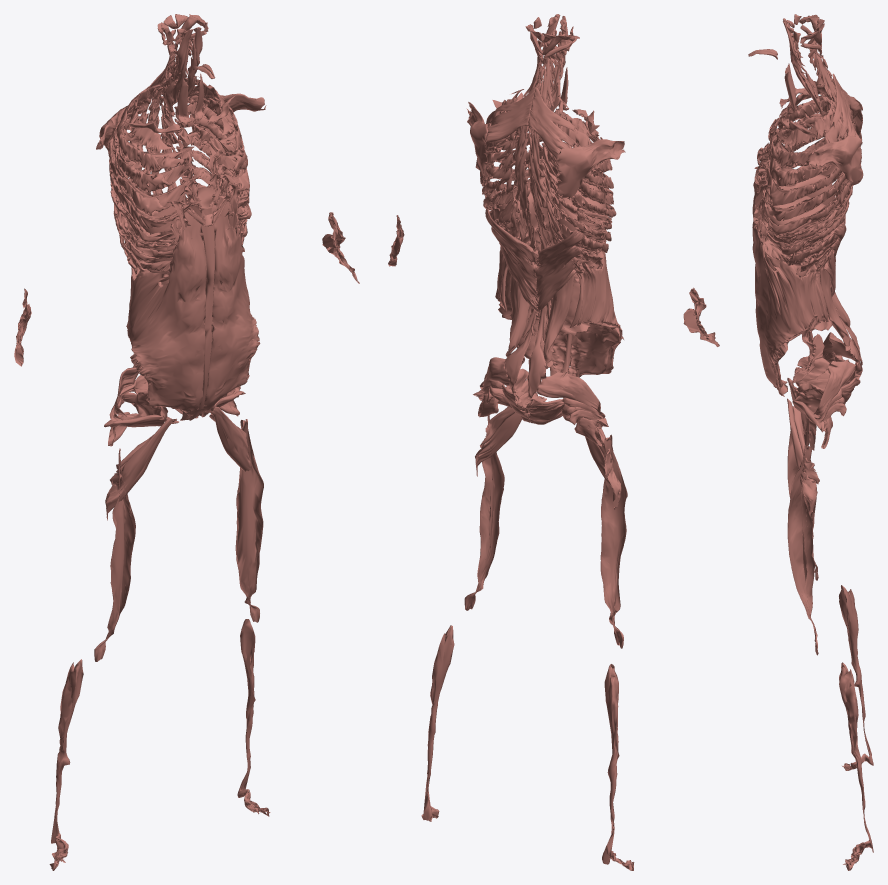
The model's file is deep-lite.glb.
The picture shows the model from 3 angles, left to right: view 1: azimuth 30°, elevation 25°; view 2: azimuth 150°, elevation 25°; view 3: azimuth 270°, elevation 25°; orthographic projection. The views are drawn at different scales.
Parts seen in each view (by area): view 1: internal_oblique_r, internal_oblique_l, External_intercostal_muscles_r, vastus_intermedius_l, Internal_intercostal_muscles_r, vastus_intermedius_r, External_intercostal_muscles_l, Tibialis_posterior_muscle_r, Innermost_intercostal_muscles_l, Tibialis_posterior_muscle_l, Linea_alba, adductor_brevis_r (+6 smaller); view 2: External_intercostal_muscles_r, Transversus_abdominis_muscle_r, vastus_intermedius_r, vastus_intermedius_l, internal_oblique_r, Serratus_posterior_inferior_muscle_r, Subscapularis_muscle_r, Serratus_posterior_inferior_muscle_l, Tibialis_posterior_muscle_r, Tibialis_posterior_muscle_l, Serratus_posterior_superior_muscle_r, Diaphragm (+17 smaller); view 3: External_intercostal_muscles_l, internal_oblique_l, vastus_intermedius_l, Internal_intercostal_muscles_l, Tibialis_posterior_muscle_l, Subscapularis_muscle_l, Tibialis_posterior_muscle_r, Diaphragm, Innermost_intercostal_muscles_l, Transversus_abdominis_muscle_l, Innermost_intercostal_muscles_r, adductor_brevis_l (+18 smaller).
Boxes of the visible parts, <box> form: internal_oblique_r: <box>126,197,206,415</box>; internal_oblique_l: <box>200,179,260,413</box>; External_intercostal_muscles_r: <box>108,90,189,274</box>; vastus_intermedius_l: <box>235,419,263,622</box>; Internal_intercostal_muscles_r: <box>112,122,201,271</box>; vastus_intermedius_r: <box>94,448,135,661</box>; External_intercostal_muscles_l: <box>177,79,251,244</box>; Tibialis_posterior_muscle_r: <box>49,659,83,870</box>; Innermost_intercostal_muscles_l: <box>191,98,247,224</box>; Tibialis_posterior_muscle_l: <box>237,619,270,816</box>; Linea_alba: <box>189,206,214,420</box>; adductor_brevis_r: <box>105,418,172,520</box>; External_intercostal_muscles_r: <box>544,108,616,271</box>; Transversus_abdominis_muscle_r: <box>560,172,620,377</box>; vastus_intermedius_r: <box>600,434,627,648</box>; vastus_intermedius_l: <box>464,415,504,610</box>; internal_oblique_r: <box>569,171,623,377</box>; Serratus_posterior_inferior_muscle_r: <box>534,230,584,312</box>; Subscapularis_muscle_r: <box>556,139,625,198</box>; Serratus_posterior_inferior_muscle_l: <box>485,208,538,313</box>; Tibialis_posterior_muscle_r: <box>602,664,634,870</box>; Tibialis_posterior_muscle_l: <box>421,625,454,821</box>; Serratus_posterior_superior_muscle_r: <box>528,87,578,158</box>; Diaphragm: <box>496,158,606,273</box>; External_intercostal_muscles_l: <box>762,101,852,272</box>; internal_oblique_l: <box>752,184,828,389</box>; vastus_intermedius_l: <box>787,444,818,655</box>; Internal_intercostal_muscles_l: <box>754,131,850,268</box>; Tibialis_posterior_muscle_l: <box>839,662,873,870</box>; Subscapularis_muscle_l: <box>807,135,863,186</box>; Tibialis_posterior_muscle_r: <box>839,585,873,770</box>; Diaphragm: <box>756,168,833,272</box>; Innermost_intercostal_muscles_l: <box>765,137,848,260</box>; Transversus_abdominis_muscle_l: <box>764,201,836,396</box>; Innermost_intercostal_muscles_r: <box>764,96,841,195</box>; adductor_brevis_l: <box>787,398,817,518</box>.
Bounding box in the file's own units: 0.6449 × 1.52 × 0.2149.
